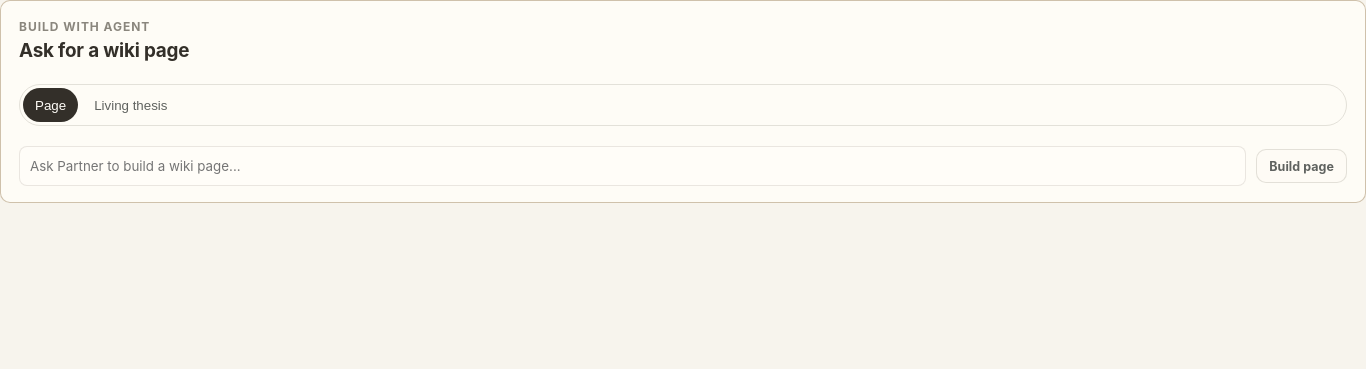
Test: WikiBuildPageComposer › updates an existing repo wiki and navigates when the repo already exists
In the field named "Wiki page to build": (633, 166) x1=19 y1=146 x2=1246 y2=186, type "https://github.com/openai/agents-js"
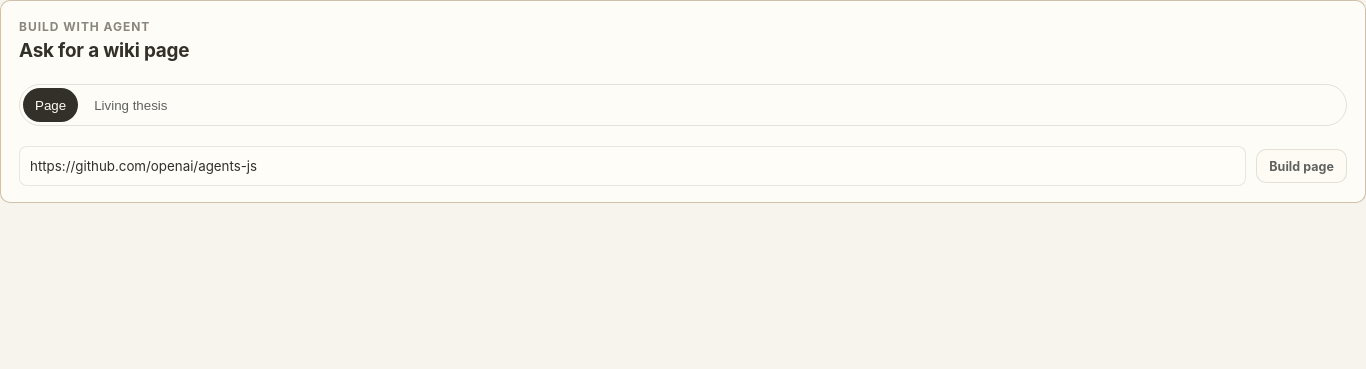
Click the button "Build page": (1302, 166) x1=1256 y1=149 x2=1347 y2=183
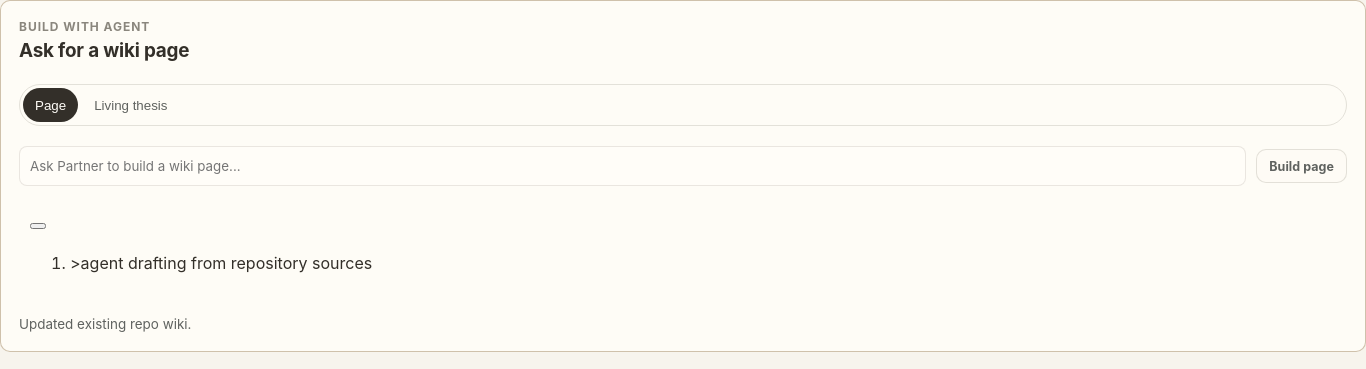
Check: the message reads "Updated existing repo wiki.", box x1=19 y1=316 x2=191 y2=332
